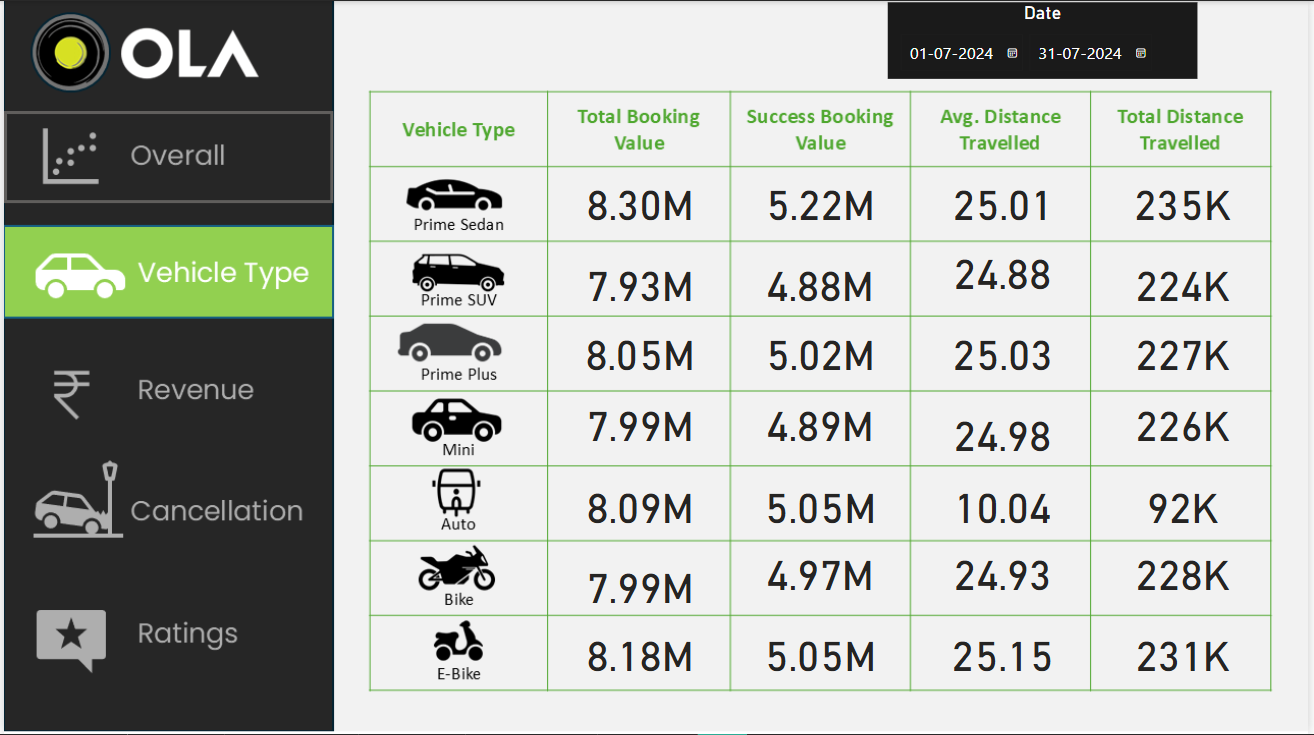

Layout of this report page (visuals, bound fields, positions):
{"tool":"powerbi","page":{"name":"Vehicle type","canvas":[1280,720],"ordinal":1},"visuals":[{"type":"actionButton","box":[0,108.6,323.3,90.5],"z":0},{"type":"card","fields":{"Values":["Sum(July (2).Booking_Value)"]},"box":[542.9,153.6,164.5,79.5],"z":1000},{"type":"actionButton","box":[0,0,100,40],"z":2000},{"type":"card","fields":{"Values":["Sum(July (2).Booking_Value)"]},"box":[542.9,233.1,164.5,79.5],"z":3000},{"type":"card","fields":{"Values":["Sum(July (2).Booking_Value)"]},"box":[542.9,300.3,164.5,79.5],"z":4000},{"type":"card","fields":{"Values":["Sum(July (2).Booking_Value)"]},"box":[542.9,370.2,164.5,79.5],"z":5000},{"type":"card","fields":{"Values":["Sum(July (2).Booking_Value)"]},"box":[542.9,449.7,164.5,79.5],"z":6000},{"type":"card","fields":{"Values":["Sum(July (2).Booking_Value)"]},"box":[542.9,596.4,164.5,79.5],"z":7000},{"type":"card","fields":{"Values":["Sum(July (2).Booking_Value)"]},"box":[542.9,529.2,164.5,79.5],"z":8000},{"type":"card","fields":{"Values":["Sum(July (2).Booking_Value)"]},"box":[718.4,153.6,164.5,79.5],"z":9000},{"type":"card","fields":{"Values":["Sum(July (2).Booking_Value)"]},"box":[718.4,233.1,164.5,79.5],"z":10000},{"type":"card","fields":{"Values":["Sum(July (2).Booking_Value)"]},"box":[718.4,300.3,164.5,79.5],"z":11000},{"type":"card","fields":{"Values":["Sum(July (2).Booking_Value)"]},"box":[718.4,370.2,164.5,79.5],"z":12000},{"type":"card","fields":{"Values":["Sum(July (2).Booking_Value)"]},"box":[718.4,449.7,164.5,79.5],"z":13000},{"type":"card","fields":{"Values":["Sum(July (2).Booking_Value)"]},"box":[718.4,516.9,164.5,79.5],"z":14000},{"type":"card","fields":{"Values":["Sum(July (2).Booking_Value)"]},"box":[718.4,596.4,164.5,79.5],"z":15000},{"type":"card","fields":{"Values":["Avg(July (2).Ride_Distance)"]},"box":[898,153.6,164.5,79.5],"z":16000},{"type":"card","fields":{"Values":["Avg(July (2).Ride_Distance)"]},"box":[898,220.7,164.5,79.5],"z":17000},{"type":"card","fields":{"Values":["Avg(July (2).Ride_Distance)"]},"box":[898,300.3,164.5,79.5],"z":18000},{"type":"card","fields":{"Values":["Avg(July (2).Ride_Distance)"]},"box":[898,379.8,164.5,79.5],"z":19000},{"type":"card","fields":{"Values":["Avg(July (2).Ride_Distance)"]},"box":[898,449.7,164.5,79.5],"z":20000},{"type":"card","fields":{"Values":["Avg(July (2).Ride_Distance)"]},"box":[898,516.9,164.5,79.5],"z":21000},{"type":"card","fields":{"Values":["Avg(July (2).Ride_Distance)"]},"box":[898,596.4,164.5,79.5],"z":22000},{"type":"card","fields":{"Values":["Sum(July (2).Ride_Distance)"]},"box":[1074.9,153.6,164.5,79.5],"z":23000},{"type":"card","fields":{"Values":["Sum(July (2).Ride_Distance)"]},"box":[1074.9,233.1,164.5,79.5],"z":24000},{"type":"card","fields":{"Values":["Sum(July (2).Ride_Distance)"]},"box":[1074.9,300.3,164.5,79.5],"z":25000},{"type":"card","fields":{"Values":["Sum(July (2).Ride_Distance)"]},"box":[1074.9,370.2,164.5,79.5],"z":26000},{"type":"card","fields":{"Values":["Sum(July (2).Ride_Distance)"]},"box":[1074.9,449.7,164.5,79.5],"z":27000},{"type":"card","fields":{"Values":["Sum(July (2).Ride_Distance)"]},"box":[1074.9,516.9,164.5,79.5],"z":28000},{"type":"card","fields":{"Values":["Sum(July (2).Ride_Distance)"]},"box":[1074.9,596.4,164.5,79.5],"z":29000},{"type":"slicer","title":"Date","fields":{"Values":["July (2).Date"]},"box":[867.9,1.4,304.4,75.4],"z":30000}]}

Visuals, with their boxes on the page's 1280x720 design canvas (x1, y1, x2, y2). These are canvas units, not pixel positions in the 1314x735 screenshot, which may show the page scaled, cropped or inside an application window:
actionButton: crop(0, 109, 323, 199)
card - Sum(July (2).Booking_Value): crop(543, 154, 707, 233)
actionButton: crop(0, 0, 100, 40)
card - Sum(July (2).Booking_Value): crop(543, 233, 707, 313)
card - Sum(July (2).Booking_Value): crop(543, 300, 707, 380)
card - Sum(July (2).Booking_Value): crop(543, 370, 707, 450)
card - Sum(July (2).Booking_Value): crop(543, 450, 707, 529)
card - Sum(July (2).Booking_Value): crop(543, 596, 707, 676)
card - Sum(July (2).Booking_Value): crop(543, 529, 707, 609)
card - Sum(July (2).Booking_Value): crop(718, 154, 883, 233)
card - Sum(July (2).Booking_Value): crop(718, 233, 883, 313)
card - Sum(July (2).Booking_Value): crop(718, 300, 883, 380)
card - Sum(July (2).Booking_Value): crop(718, 370, 883, 450)
card - Sum(July (2).Booking_Value): crop(718, 450, 883, 529)
card - Sum(July (2).Booking_Value): crop(718, 517, 883, 596)
card - Sum(July (2).Booking_Value): crop(718, 596, 883, 676)
card - Avg(July (2).Ride_Distance): crop(898, 154, 1062, 233)
card - Avg(July (2).Ride_Distance): crop(898, 221, 1062, 300)
card - Avg(July (2).Ride_Distance): crop(898, 300, 1062, 380)
card - Avg(July (2).Ride_Distance): crop(898, 380, 1062, 459)
card - Avg(July (2).Ride_Distance): crop(898, 450, 1062, 529)
card - Avg(July (2).Ride_Distance): crop(898, 517, 1062, 596)
card - Avg(July (2).Ride_Distance): crop(898, 596, 1062, 676)
card - Sum(July (2).Ride_Distance): crop(1075, 154, 1239, 233)
card - Sum(July (2).Ride_Distance): crop(1075, 233, 1239, 313)
card - Sum(July (2).Ride_Distance): crop(1075, 300, 1239, 380)
card - Sum(July (2).Ride_Distance): crop(1075, 370, 1239, 450)
card - Sum(July (2).Ride_Distance): crop(1075, 450, 1239, 529)
card - Sum(July (2).Ride_Distance): crop(1075, 517, 1239, 596)
card - Sum(July (2).Ride_Distance): crop(1075, 596, 1239, 676)
"Date" slicer: crop(868, 1, 1172, 77)
